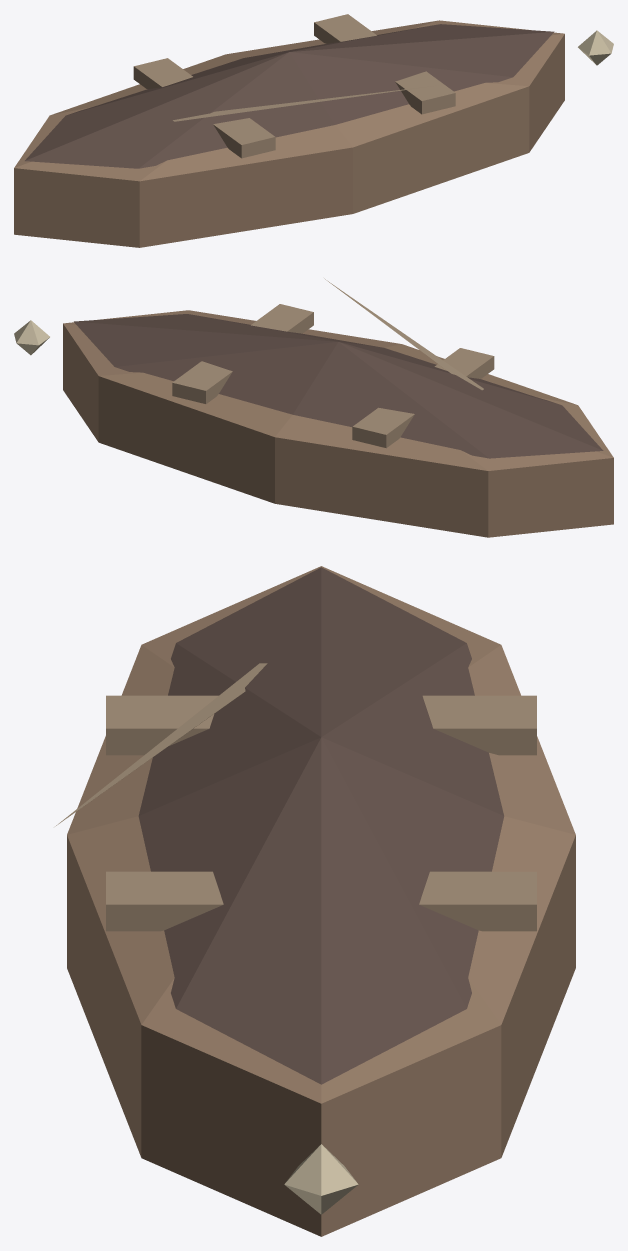
The model's file is prop_boat.glb.
The picture shows the model from 3 angles, top to bottom: view 1: azimuth 30°, elevation 25°; view 2: azimuth 150°, elevation 25°; view 3: azimuth 270°, elevation 25°; orthographic projection. The views are drawn at different scales.
Parts seen in each view (by area): view 1: body; view 2: body; view 3: body.
Boxes of the visible parts, x1=… form: body: x1=14, y1=14, x2=613, y2=247; body: x1=14, y1=278, x2=613, y2=537; body: x1=55, y1=566, x2=575, y2=1236.
Size of the model in its own units: 2.83 by 0.67 by 1.07.
